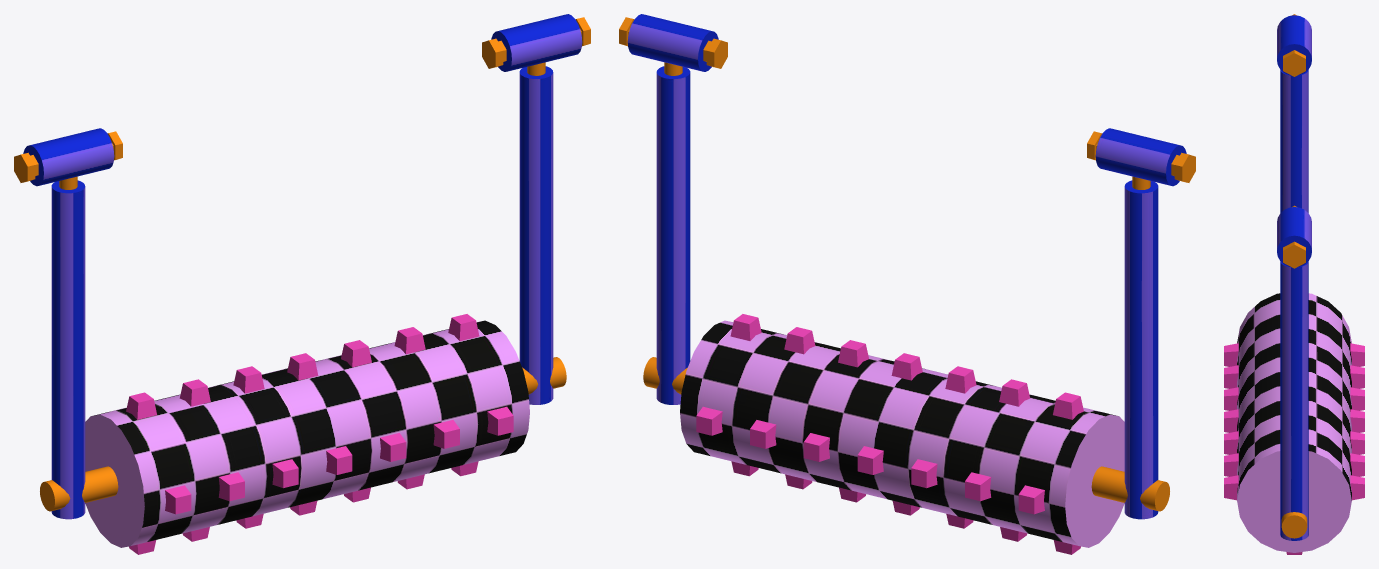
Rendered from pendulum_00 1.fbx.
3 renders of one model, left to right at view 1: azimuth 30°, elevation 25°; view 2: azimuth 150°, elevation 25°; view 3: azimuth 270°, elevation 25°, orthographic. The views are drawn at different scales.
Parts seen in each view (by area): view 1: pCylinder1, pCylinder5, pCylinder2, pCylinder6, pCylinder3, pCylinder4, pCylinder7; view 2: pCylinder1, pCylinder5, pCylinder2, pCylinder6, pCylinder3, pCylinder4, pCylinder7; view 3: pCylinder1, pCylinder2, pCylinder5, pCylinder3, pCylinder6, pCube8 (×2), pCube2 (×2), pCube3 (×2), pCube4 (×2), pCube5 (×2), pCube6 (×2), pCube7 (×2) (+2 smaller).
Boxes of the visible parts, box(x1,y1,x2,y2) form: pCylinder1: box(40, 320, 566, 547); pCylinder5: box(51, 176, 85, 519); pCylinder2: box(519, 62, 553, 404); pCylinder6: box(23, 128, 114, 186); pCylinder3: box(491, 14, 582, 71); pCylinder4: box(482, 17, 590, 68); pCylinder7: box(14, 131, 122, 182); pCylinder1: box(643, 320, 1169, 547); pCylinder5: box(1124, 176, 1158, 519); pCylinder2: box(656, 62, 690, 404); pCylinder6: box(1095, 128, 1186, 186); pCylinder3: box(627, 14, 718, 71); pCylinder4: box(619, 17, 727, 68); pCylinder7: box(1087, 131, 1195, 182); pCylinder1: box(1237, 293, 1351, 552); pCylinder2: box(1280, 261, 1308, 540); pCylinder5: box(1280, 70, 1308, 212); pCylinder3: box(1277, 207, 1311, 266); pCylinder6: box(1277, 15, 1311, 75); pCube8 (×2): box(1224, 475, 1364, 500); pCube2 (×2): box(1224, 343, 1364, 366); pCube3 (×2): box(1224, 365, 1364, 388); pCube4 (×2): box(1224, 387, 1364, 410); pCube5 (×2): box(1224, 409, 1364, 432); pCube6 (×2): box(1224, 431, 1364, 454); pCube7 (×2): box(1224, 453, 1364, 476).
Size of the model in its own units: 4891 by 1263 by 3563.
